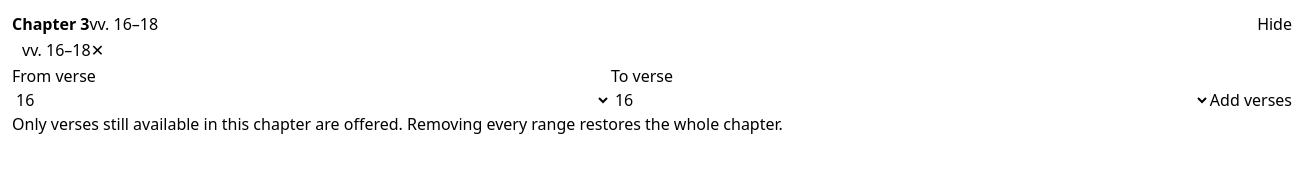
Test: collapses the panel with Hide even after a verse range is added
The image size is (1304, 172).
Expected: the dropdown named "From verse in chapter 3" is shown, 12,88 -> 611,112
Click the button "Hide" at (1275, 24), box 1257,12 -> 1292,36
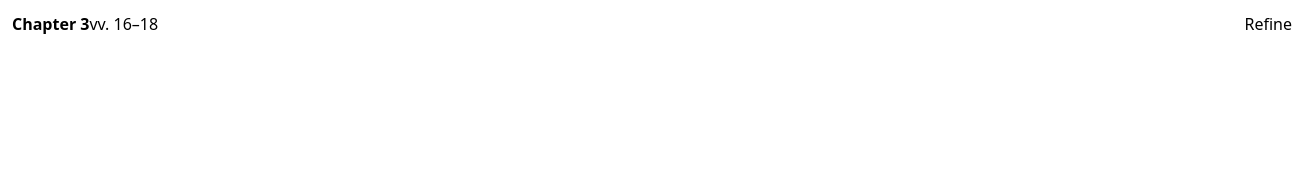
Result: the button "Refine" is shown at 1244,12 -> 1292,36
